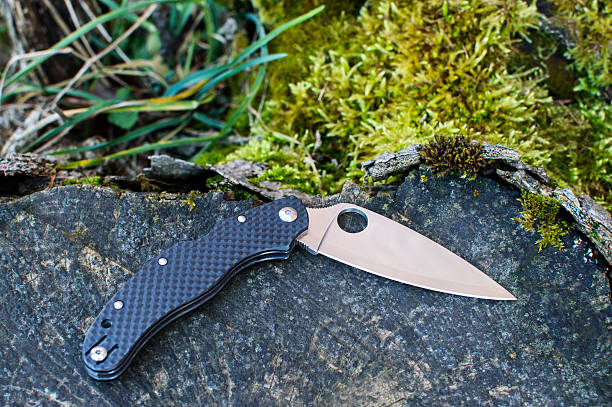knife: (297, 201, 520, 303)
